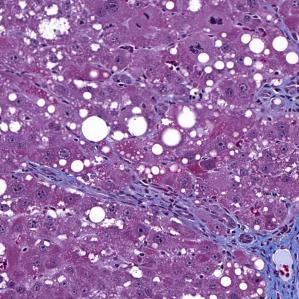fibrosis: (131, 178, 224, 229), (250, 228, 299, 299)
